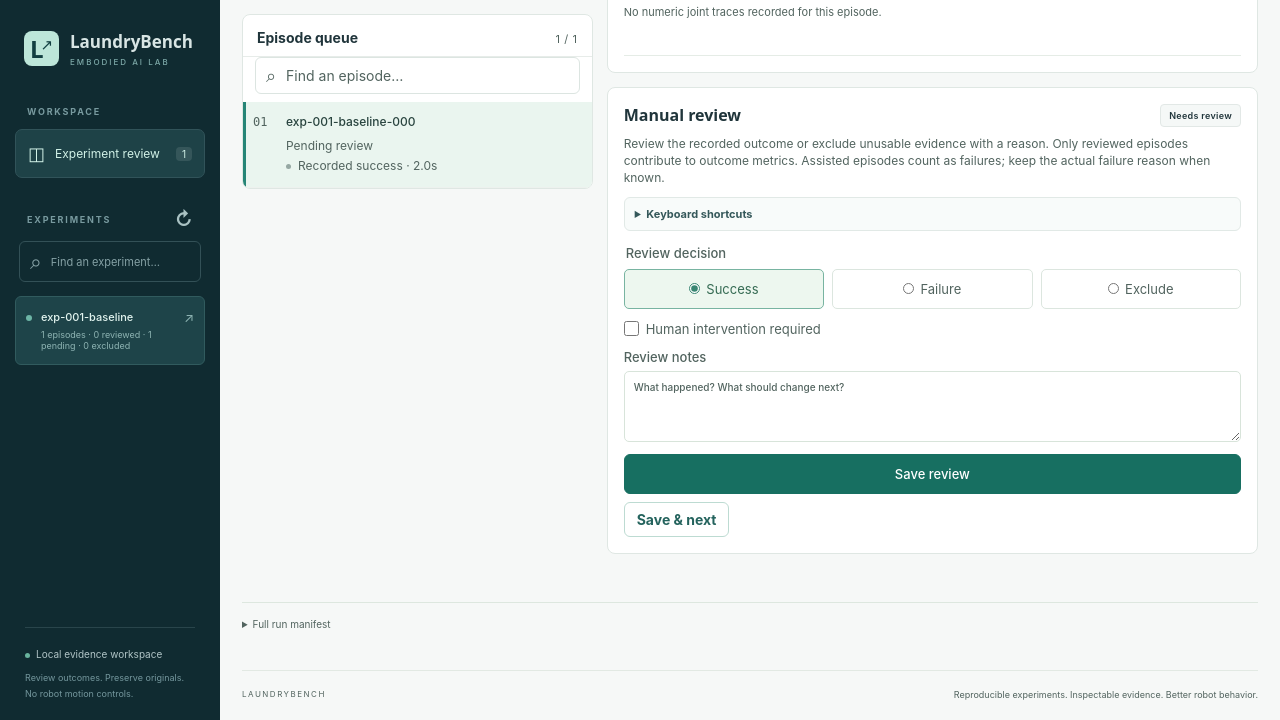
Test: keeps edits visible on a conflicting review and requires explicit reload
The image size is (1280, 720).
(page scrolled)
Expected: the heading "Manual review" is shown, [624, 104, 741, 126]
Type "Do not lose this" into the text box labelled "Review notes" at (932, 406), box [624, 371, 1241, 442]
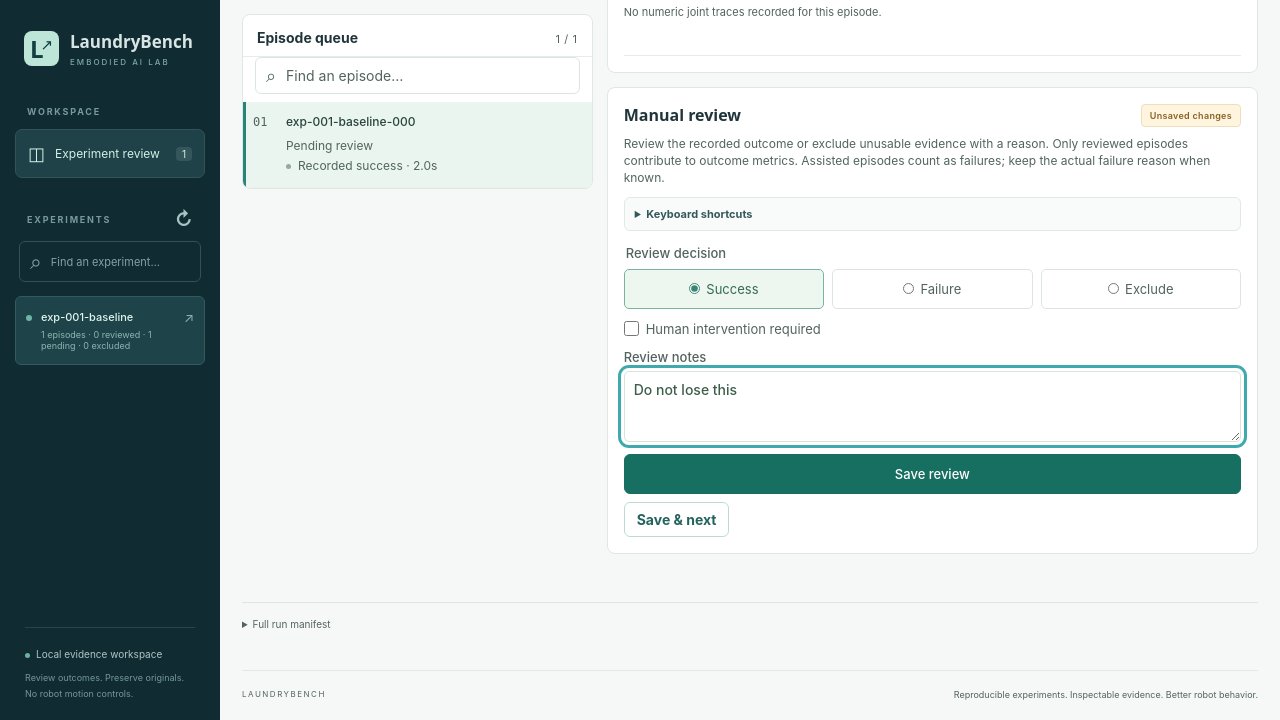
Click the button "Save review" at (932, 474), box [624, 454, 1241, 494]
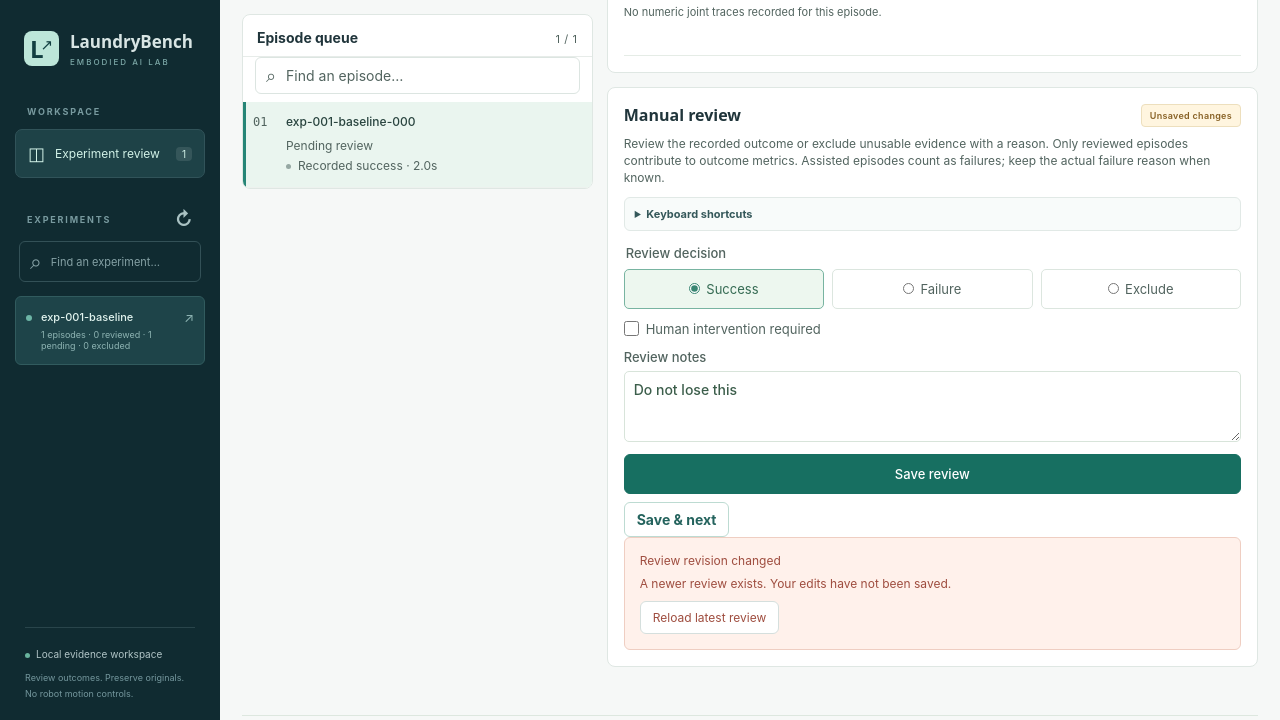
Now the text "Review revision changed" is shown, box [640, 553, 781, 568]
Now the button "Reload latest review" is shown, box [640, 601, 779, 634]
